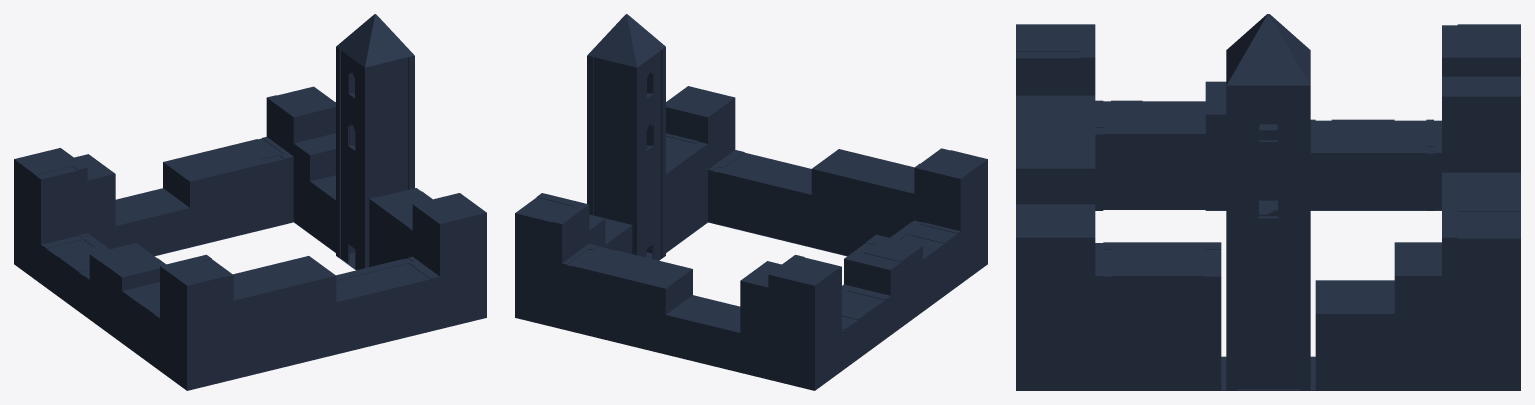
Rendered from belltower.fbx.
3 views of the same model, side by side, from view 1: azimuth 30°, elevation 25°; view 2: azimuth 150°, elevation 25°; view 3: azimuth 270°, elevation 25° (orthographic). The views are drawn at different scales.
Visible parts, largest first — view 1: Cube, tower; view 2: Cube, tower; view 3: Cube, tower.
Part boxes in pixels (x1,y1,x2,y2): Cube: [14, 86, 486, 390]; tower: [336, 14, 414, 270]; Cube: [515, 86, 987, 390]; tower: [587, 14, 665, 260]; Cube: [1016, 24, 1520, 390]; tower: [1226, 14, 1310, 390].
Bounding box in the file's own units: 60000 × 47050 × 60000.
